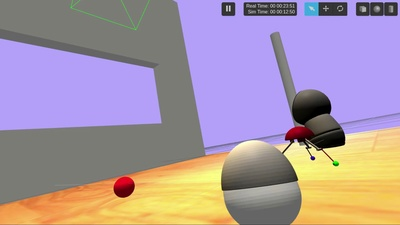mira_robot: (222, 140, 303, 225)
